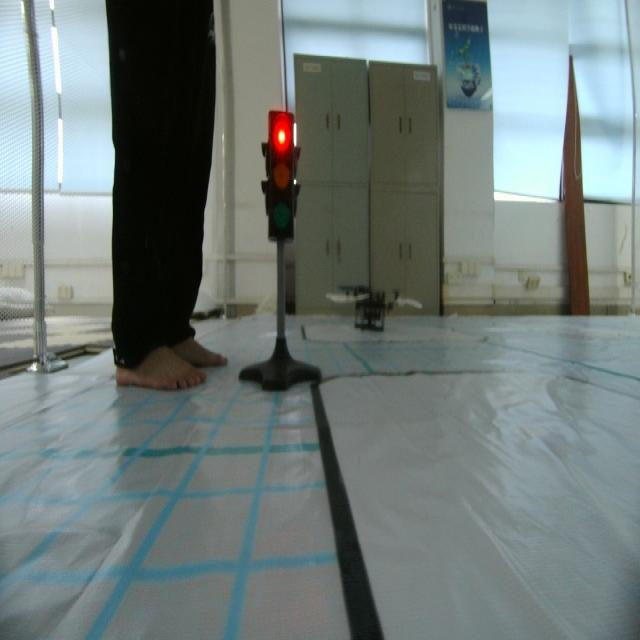red: (255, 103, 301, 247)
